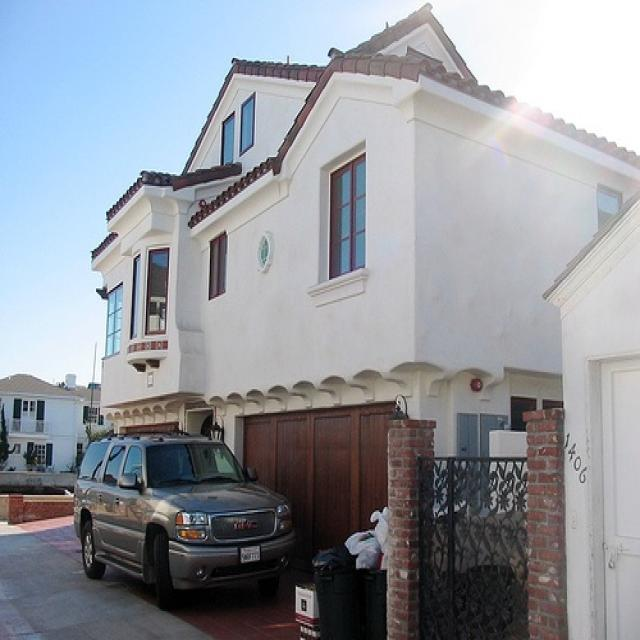car: (73, 437, 298, 597)
